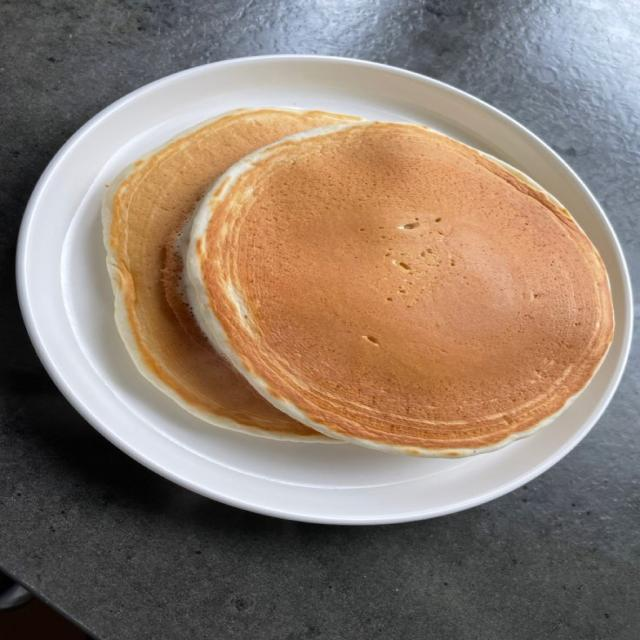pancake: (187, 122, 613, 456), (103, 109, 359, 441)
